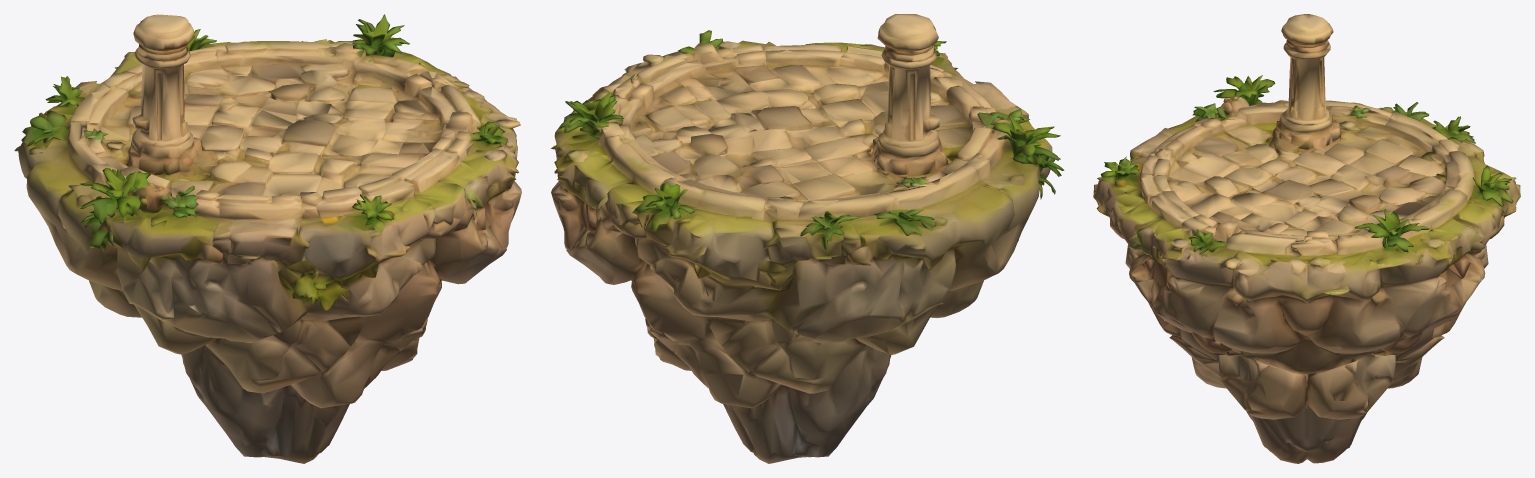
File: island.glb
The picture shows the model from 3 angles, left to right: view 1: azimuth 30°, elevation 25°; view 2: azimuth 150°, elevation 25°; view 3: azimuth 270°, elevation 25°; orthographic projection. The views are drawn at different scales.
Visible parts, largest first — view 1: tripo_node_99167be9-890e-4fed-b1b5-52a4dd2e9f6d; view 2: tripo_node_99167be9-890e-4fed-b1b5-52a4dd2e9f6d; view 3: tripo_node_99167be9-890e-4fed-b1b5-52a4dd2e9f6d.
Part boxes in pixels (bbox=[...]): tripo_node_99167be9-890e-4fed-b1b5-52a4dd2e9f6d: bbox=[14, 14, 521, 463]; tripo_node_99167be9-890e-4fed-b1b5-52a4dd2e9f6d: bbox=[550, 14, 1064, 463]; tripo_node_99167be9-890e-4fed-b1b5-52a4dd2e9f6d: bbox=[1093, 14, 1520, 463].
Bounding box in the file's own units: 13.01 × 13.02 × 12.88.
1 material, 1 textured.
